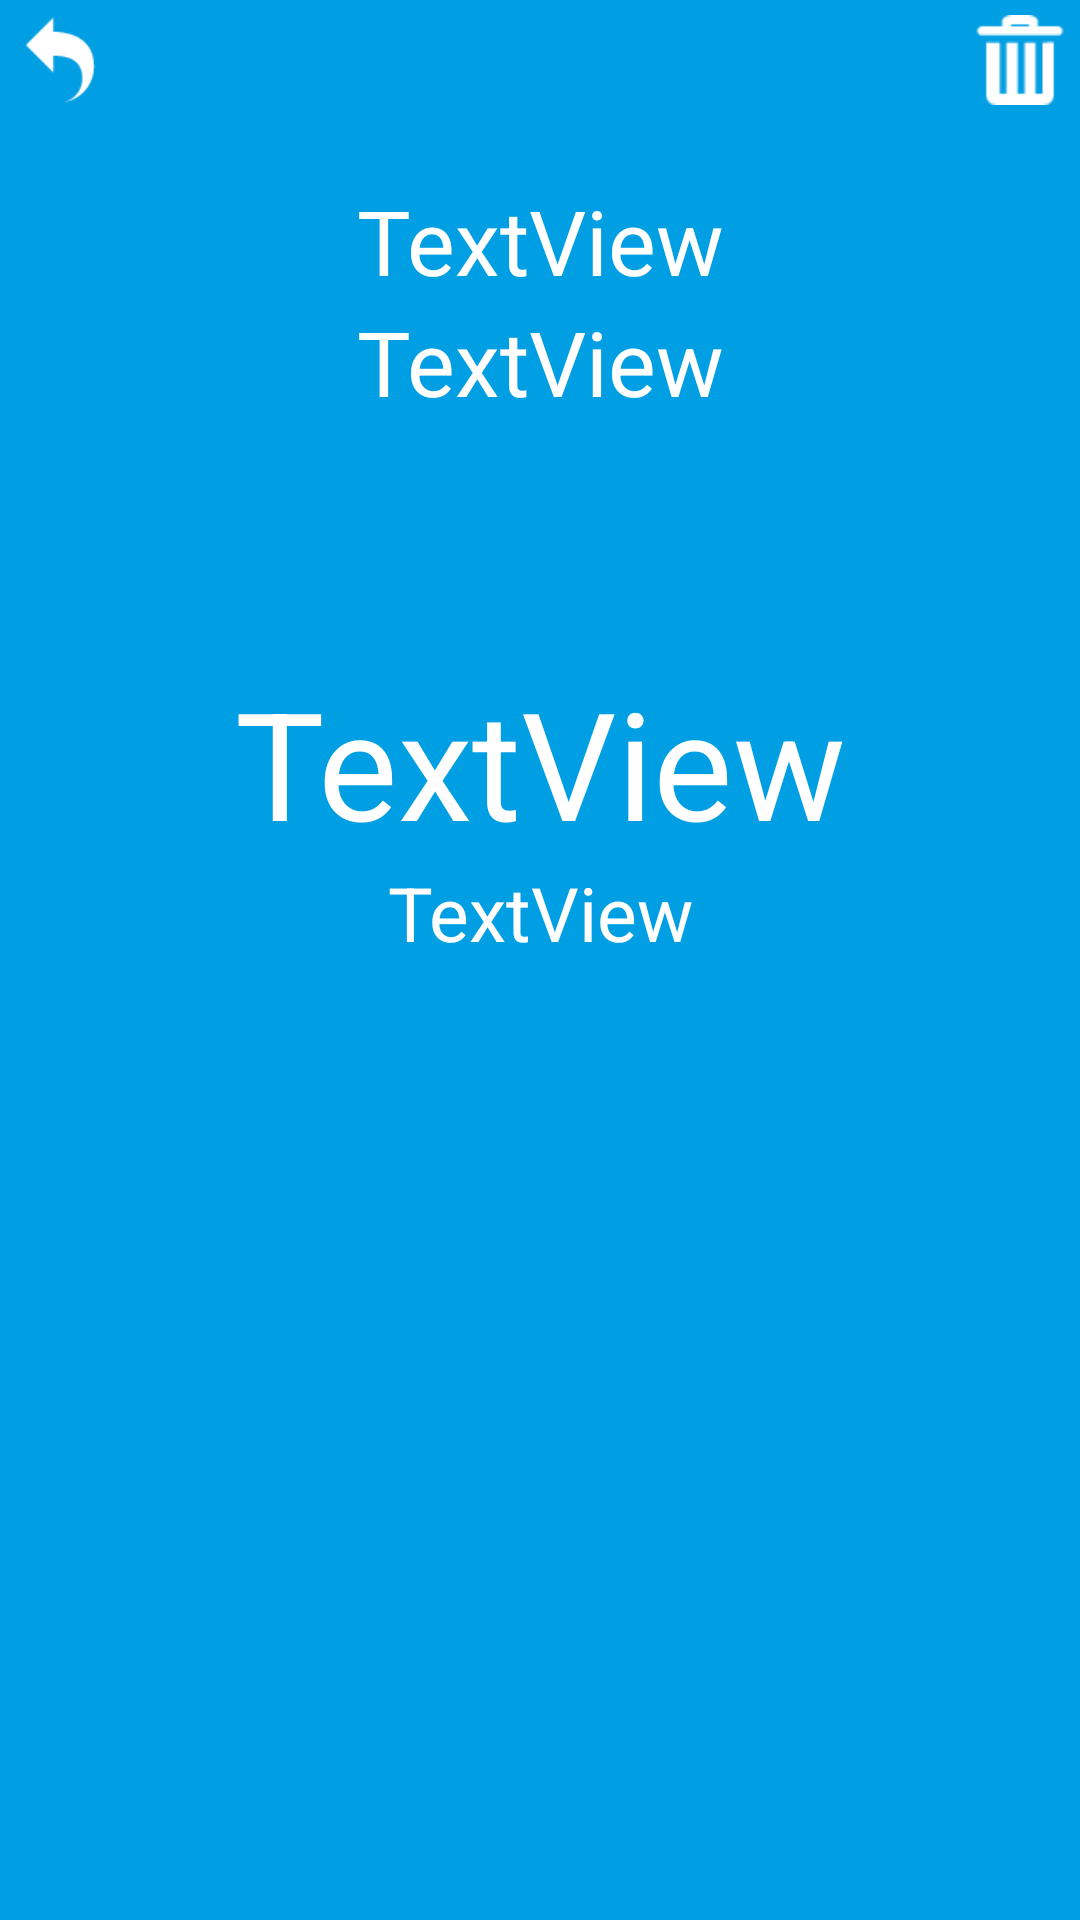

Where icons sit on this 1080px×1920px app screen, as (x1, y1, x2, y2):
delete: (976, 15, 1064, 105)
